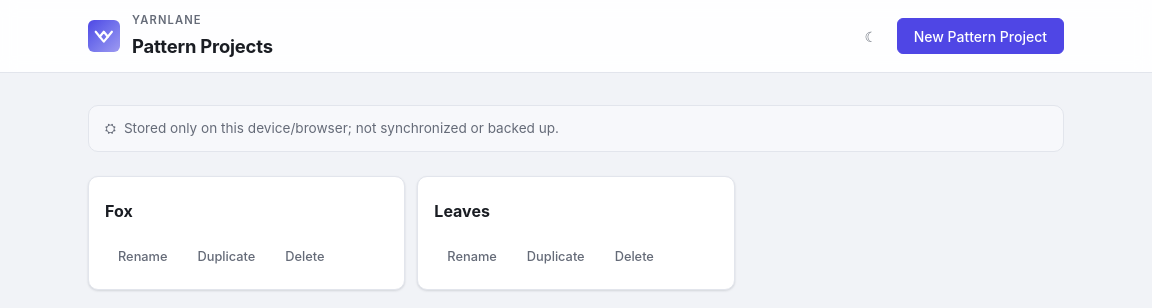
Test: Project library management › deletes a Pattern Project after confirmation
Click the button with aria-label "delete fox" at (305, 257), box [272, 241, 338, 273]
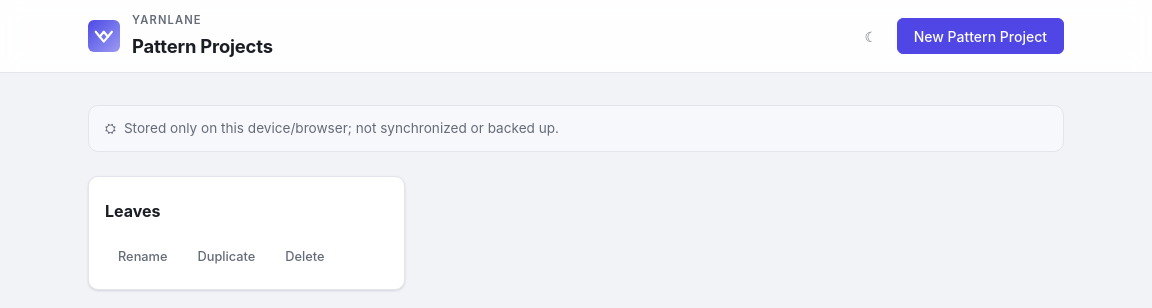
Expected: the button "Leaves" is shown, [105, 189, 388, 233]
Expected: the button "Fox" is gone
